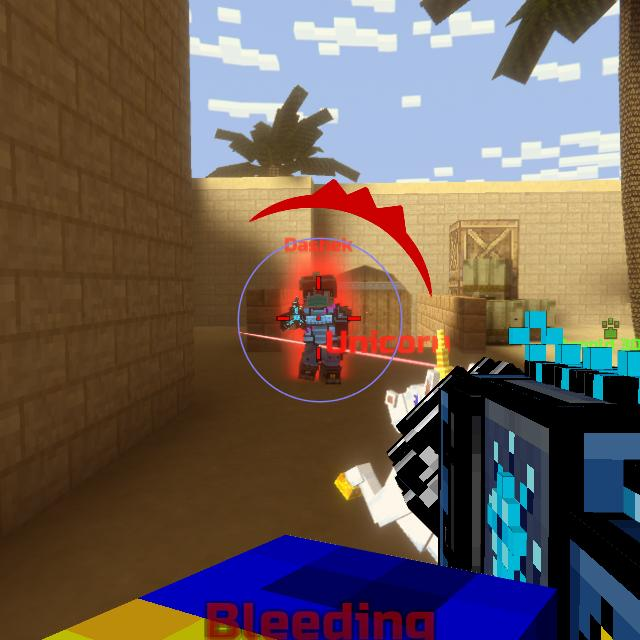Enemy: (280, 275, 352, 385)
